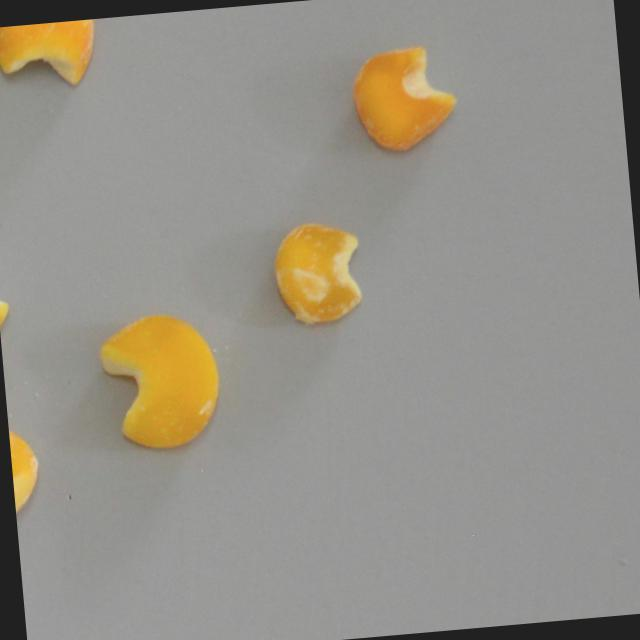no_canjicado: (95, 310, 225, 454)
pelicula: (347, 40, 460, 155), (268, 217, 366, 329), (0, 19, 99, 93), (7, 411, 43, 524)
